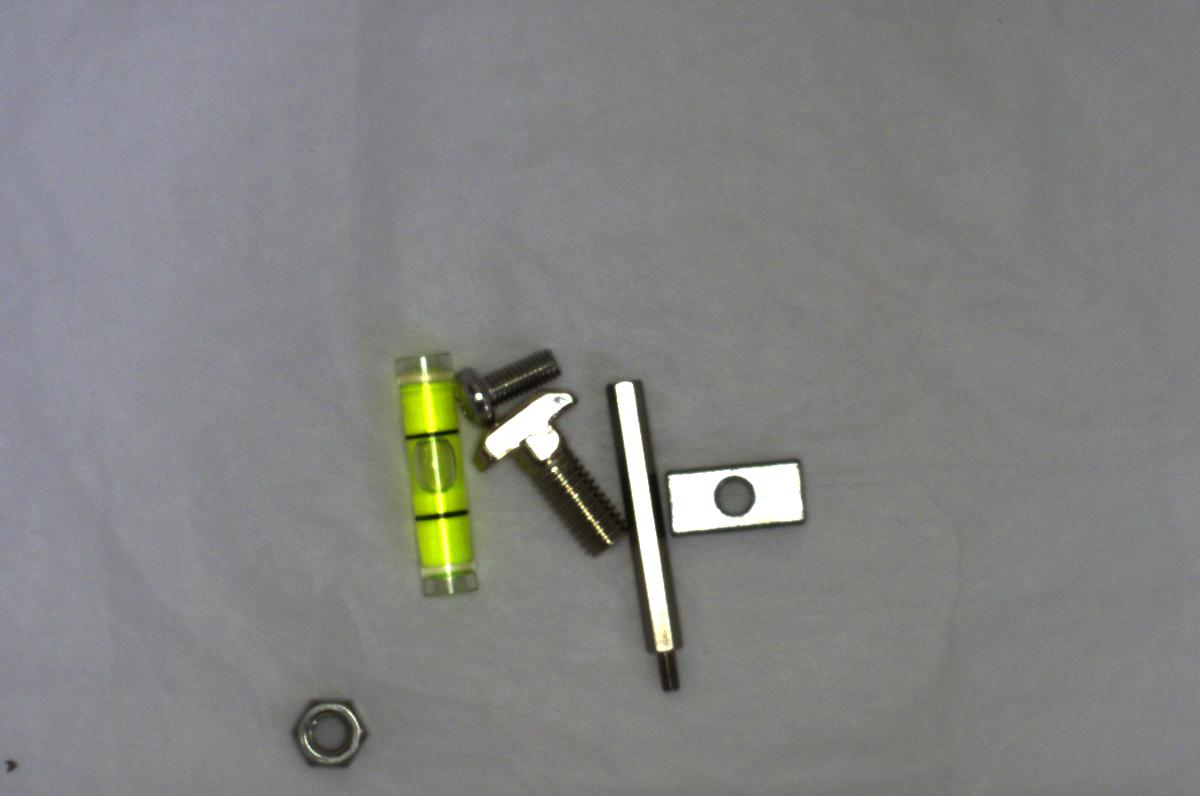Hexagon nut: (292, 683, 374, 766)
Hexagonal steel column: (597, 373, 699, 698)
Horizontal bubble: (388, 339, 475, 606)
Rectangular nut: (657, 452, 811, 543)
Round head screw: (455, 340, 565, 433)
T-shaped screw: (465, 387, 626, 559)
